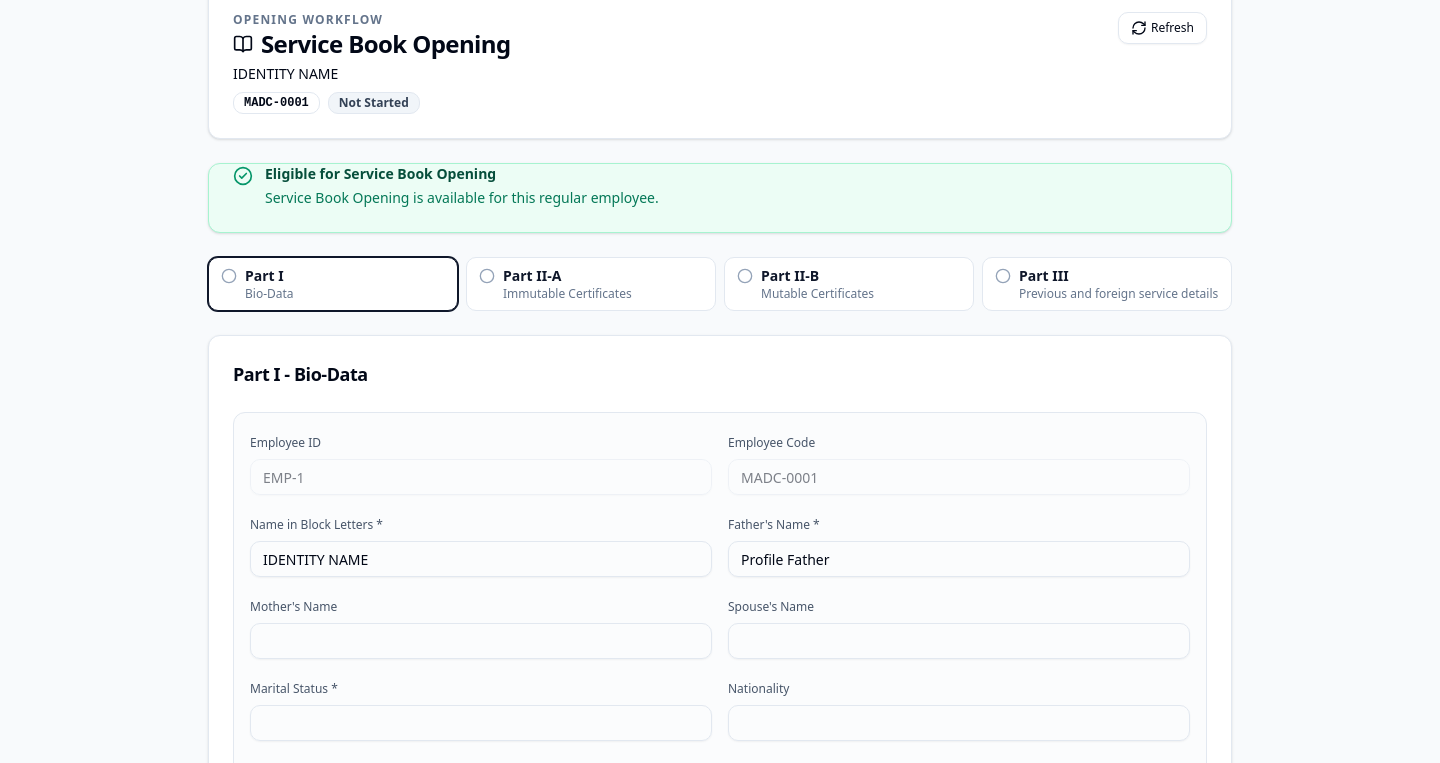
Test: ServiceBookOpeningPage › Part II-A groups immutable certificate fields into separate cards
The width and height of the screenshot is (1440, 763).
Click the tab with test id "opening-step-tab-part_iia": (591, 284) 466,257 -> 716,311
(page scrolled)
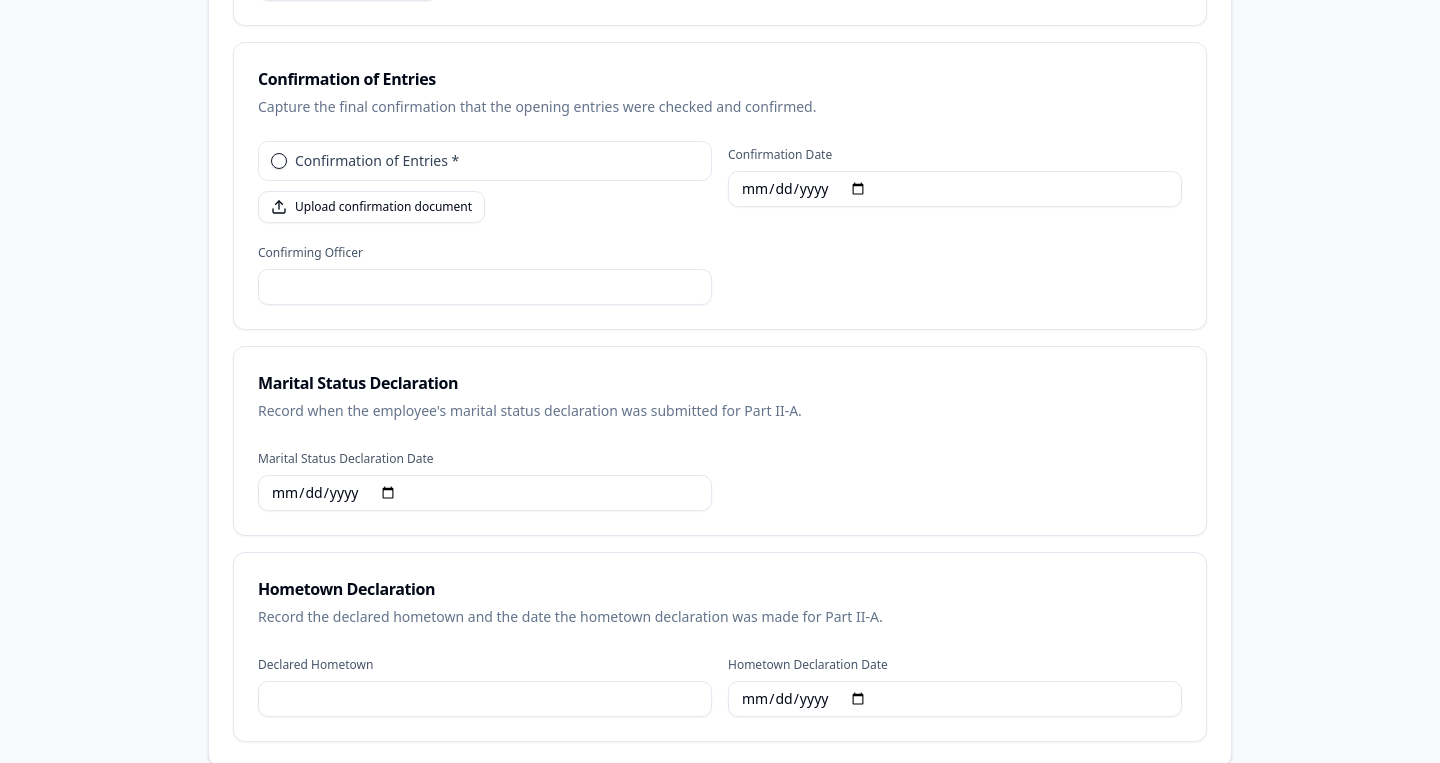
Now the element with test id "opening-section-part_iia-entries_confirmation" is shown, box 233,42 -> 1207,330
Now the element with test id "opening-section-part_iia-marital_status_declaration" is shown, box 233,346 -> 1207,536
Now the element with test id "opening-section-part_iia-hometown_declaration" is shown, box 233,552 -> 1207,742
